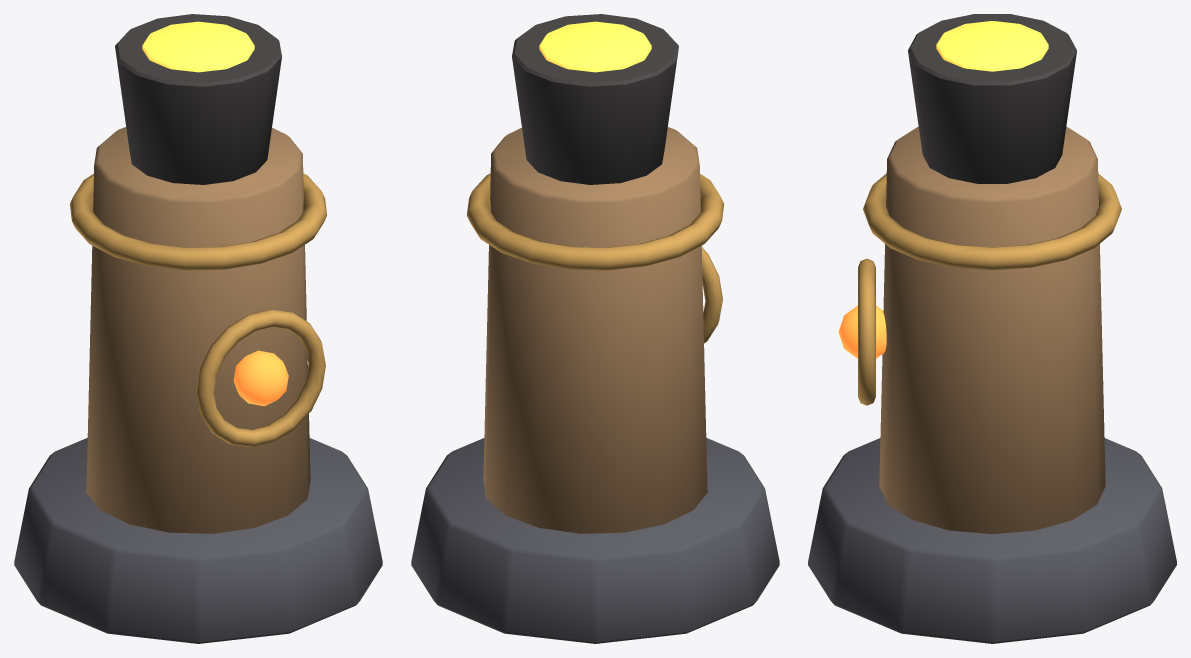
File: steam_valve_tower.glb
3 renders of one model, left to right at view 1: azimuth 30°, elevation 25°; view 2: azimuth 150°, elevation 25°; view 3: azimuth 270°, elevation 25°, orthographic.
Parts seen in each view (by area): view 1: PropBody_A1_OchreDust, PropBody_A1_GunmetalFrame, PropBody_A1_BurnedScrap, PropBody_A1_HeatBrass, PropBody_act1_PropGlow, PropBody_A1_CrimsonOptic; view 2: PropBody_A1_OchreDust, PropBody_A1_GunmetalFrame, PropBody_A1_BurnedScrap, PropBody_A1_HeatBrass, PropBody_act1_PropGlow; view 3: PropBody_A1_OchreDust, PropBody_A1_GunmetalFrame, PropBody_A1_BurnedScrap, PropBody_A1_HeatBrass, PropBody_act1_PropGlow, PropBody_A1_CrimsonOptic.
Part boxes in pixels (left/top/right/bottom): PropBody_A1_OchreDust: left=86, top=127, right=310, bottom=533; PropBody_A1_GunmetalFrame: left=14, top=438, right=382, bottom=643; PropBody_A1_BurnedScrap: left=115, top=14, right=281, bottom=184; PropBody_A1_HeatBrass: left=70, top=173, right=327, bottom=446; PropBody_act1_PropGlow: left=142, top=21, right=254, bottom=72; PropBody_A1_CrimsonOptic: left=233, top=350, right=288, bottom=406; PropBody_A1_OchreDust: left=483, top=127, right=707, bottom=533; PropBody_A1_GunmetalFrame: left=411, top=438, right=779, bottom=643; PropBody_A1_BurnedScrap: left=512, top=14, right=678, bottom=184; PropBody_A1_HeatBrass: left=466, top=173, right=723, bottom=343; PropBody_act1_PropGlow: left=539, top=21, right=651, bottom=72; PropBody_A1_OchreDust: left=879, top=126, right=1105, bottom=533; PropBody_A1_GunmetalFrame: left=808, top=438, right=1176, bottom=643; PropBody_A1_BurnedScrap: left=908, top=14, right=1076, bottom=183; PropBody_A1_HeatBrass: left=858, top=173, right=1121, bottom=405; PropBody_act1_PropGlow: left=936, top=21, right=1048, bottom=71; PropBody_A1_CrimsonOptic: left=838, top=305, right=886, bottom=358.
Size of the model in its own units: 1.82 by 2.85 by 1.82.
